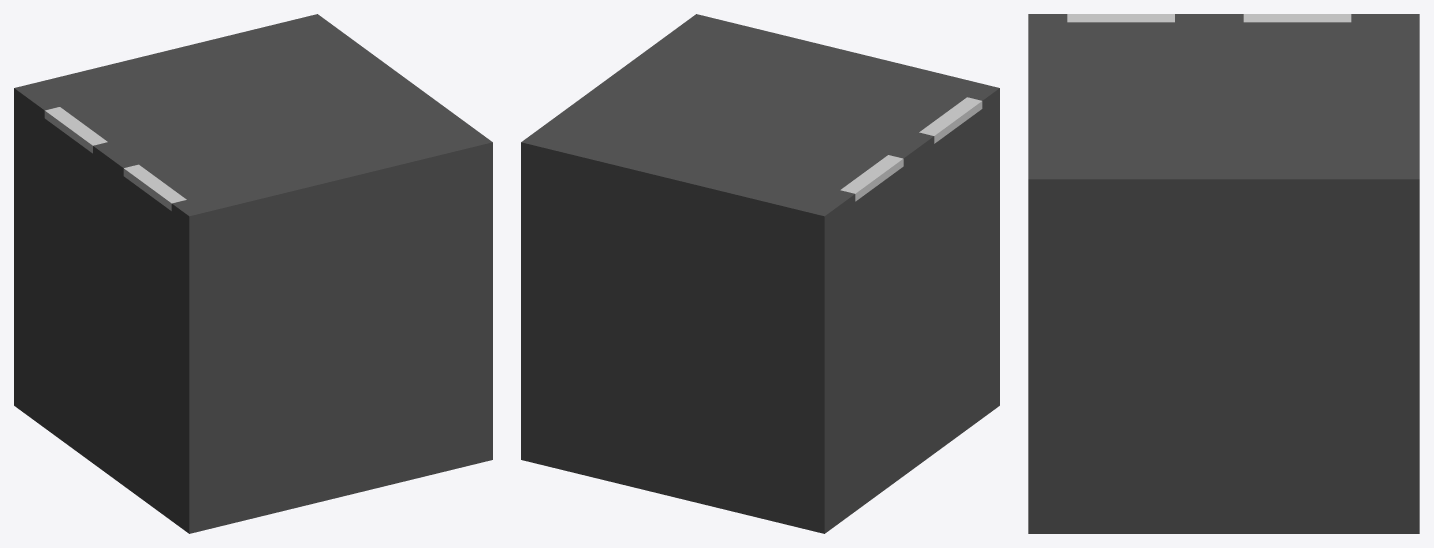
The model's file is Road.obj.
3 renders of one model, left to right at view 1: azimuth 30°, elevation 25°; view 2: azimuth 150°, elevation 25°; view 3: azimuth 270°, elevation 25°, orthographic. The views are drawn at different scales.
Size of the model in its own units: 4 by 4 by 4.
1 material, 1 textured.
